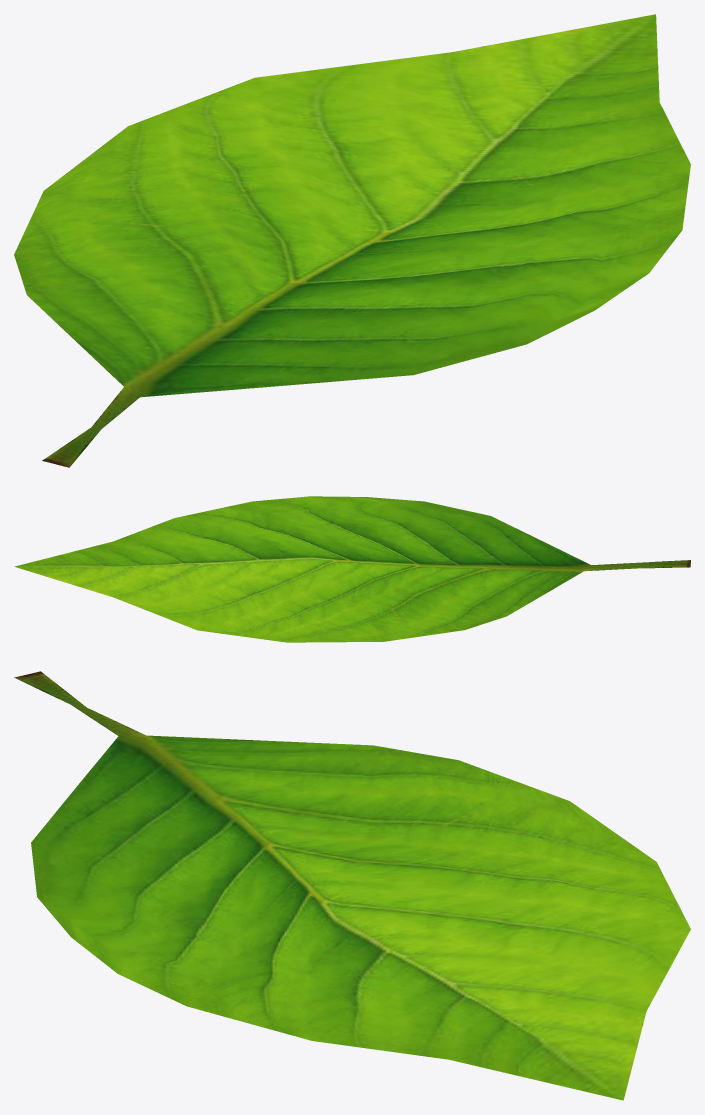
Rendered from leaf.glb.
3 views of the same model, one above another, from view 1: azimuth 30°, elevation 25°; view 2: azimuth 150°, elevation 25°; view 3: azimuth 270°, elevation 25° (orthographic). The views are drawn at different scales.
Visible parts, largest first — view 1: Plane; view 2: Plane; view 3: Plane.
Boxes of the visible parts, bbox=[...] form: Plane: bbox=[14, 14, 690, 467]; Plane: bbox=[14, 496, 690, 642]; Plane: bbox=[14, 671, 690, 1100].
Bounding box in the file's own units: 4.24 × 0.0176 × 2.82.
Materials: 1 (1 with a texture image).
